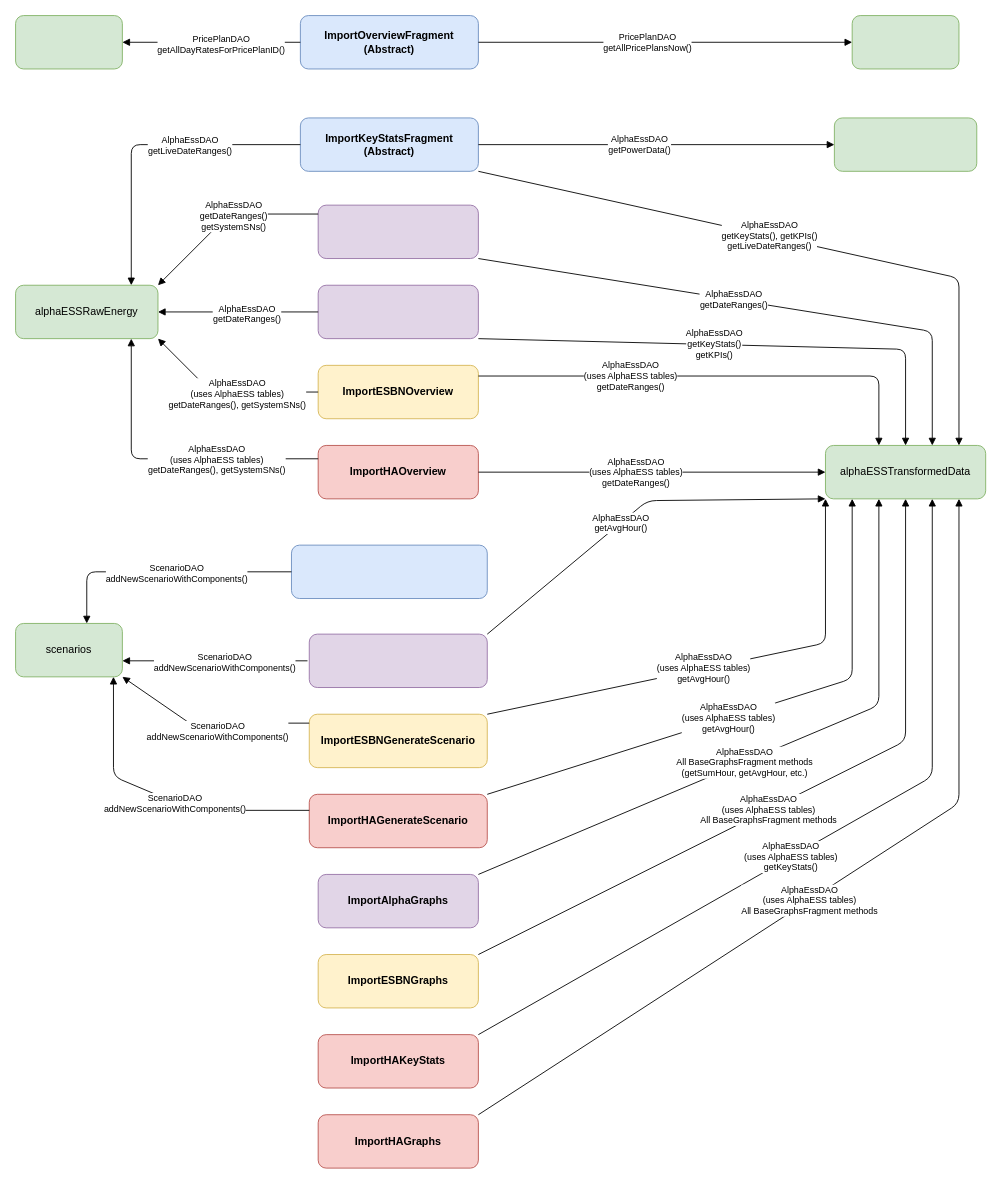
Some shapes in this 1001 by 1184 pixel diagram are drawn without their labels. Here are the shapes that lost their labels. From the top down, the centre of each, then its label:
pixel 68 42: DayRates
pixel 905 42: PricePlans
pixel 905 144: alphaESSRawPower
pixel 397 231: ImportAlphaOverview
pixel 397 311: ImportAlphaKeyStats
pixel 389 571: ImportGenerateScenarioFragment (Abstract)
pixel 397 660: ImportAlphaGenerateScenario
